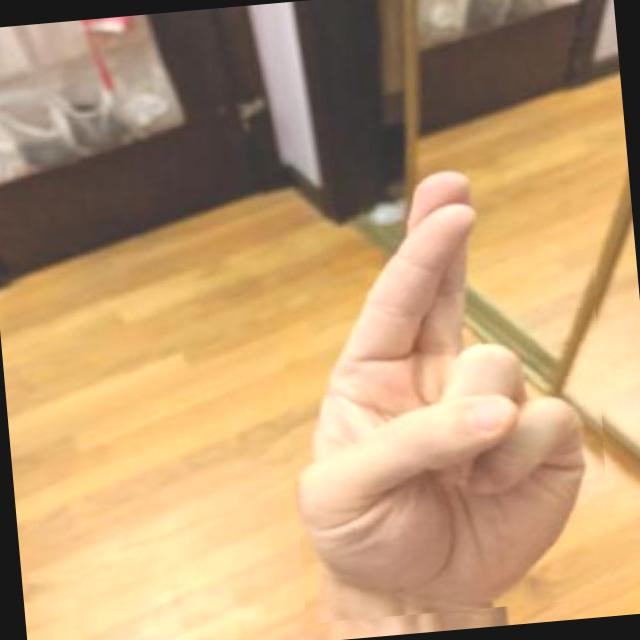R: (268, 151, 626, 623)
